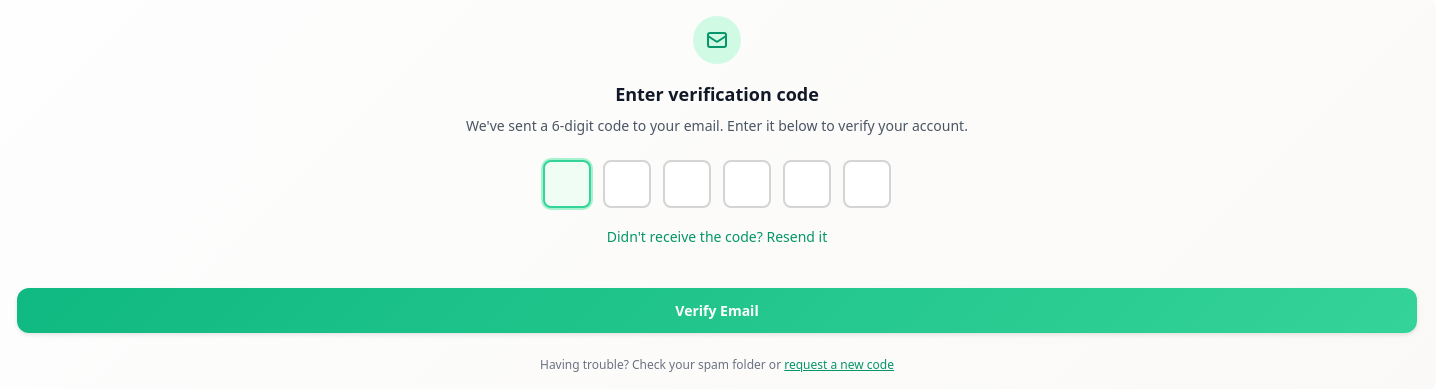
it: EmailVerificationClient › handles resend functionality correctly
The image size is (1436, 389).
Step 1. Click the button "Didn't receive the code? Resend it" → x=717, y=237, box [607,227,827,247]
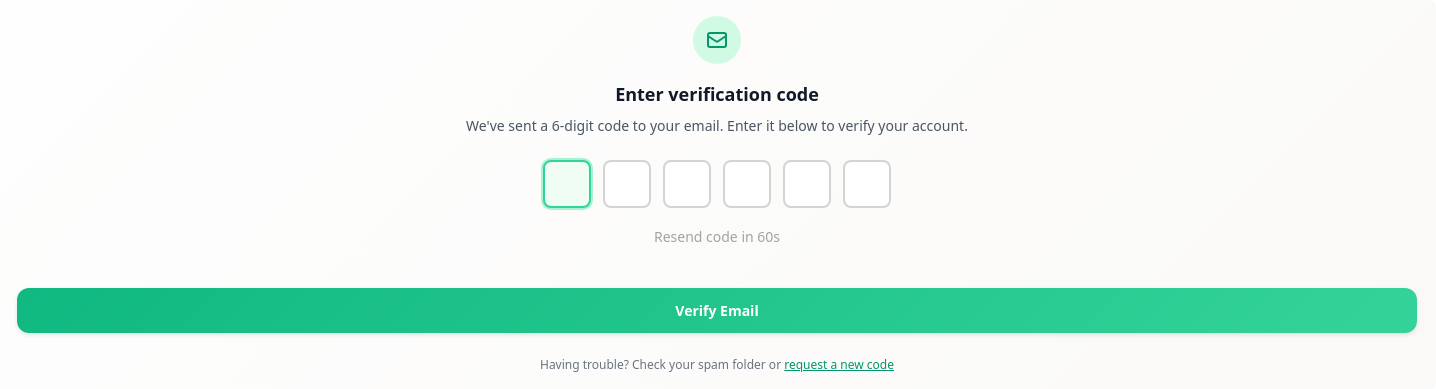
Result: the button "Resend code in 60s" is shown at [654,227,780,247]
